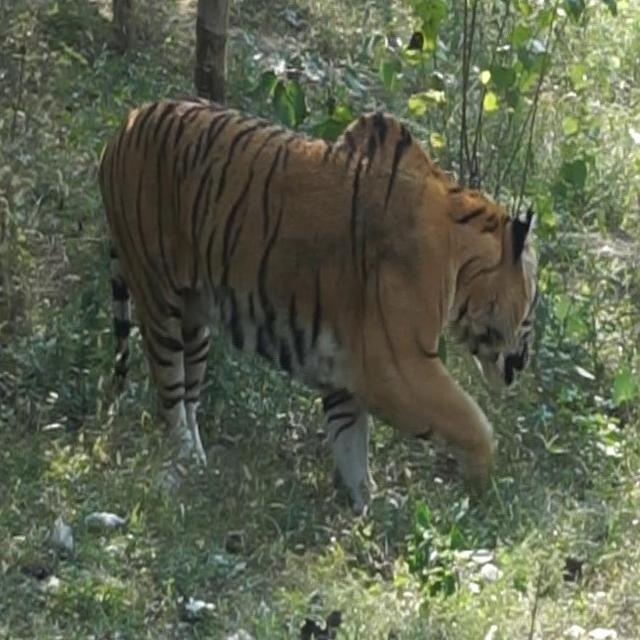tiger: (96, 94, 539, 517)
